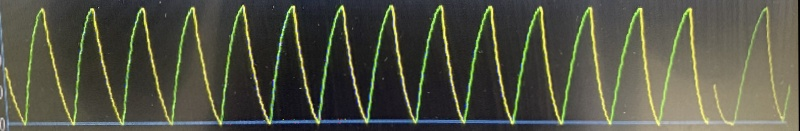normal_volume: (0, 0, 725, 127)
